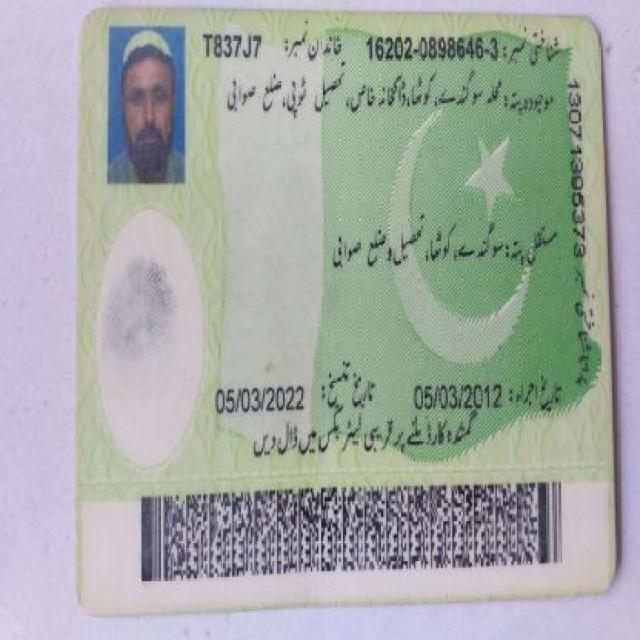Back: (75, 15, 616, 608)
